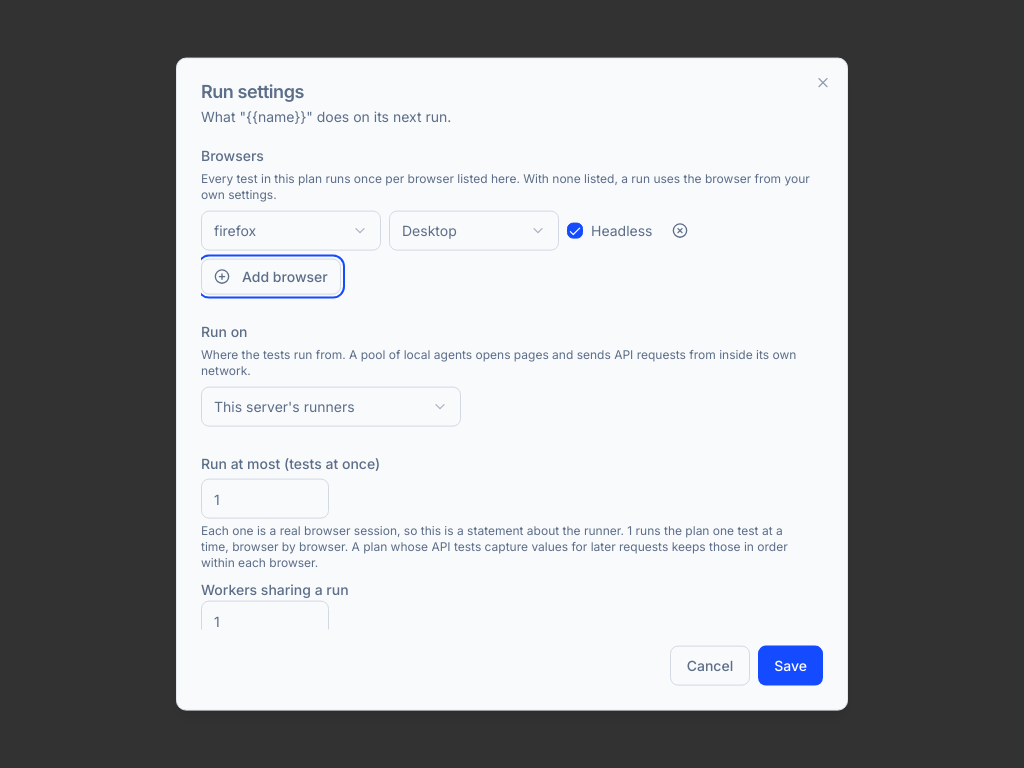
Test case: EditTestPlanSettingsModal › refuses a parallelism that is not a usable number of browser sessions
Replace the text in the field labelled "Run at most (tests at once)" with "40" at x=265, y=499, box [201,479,329,519]
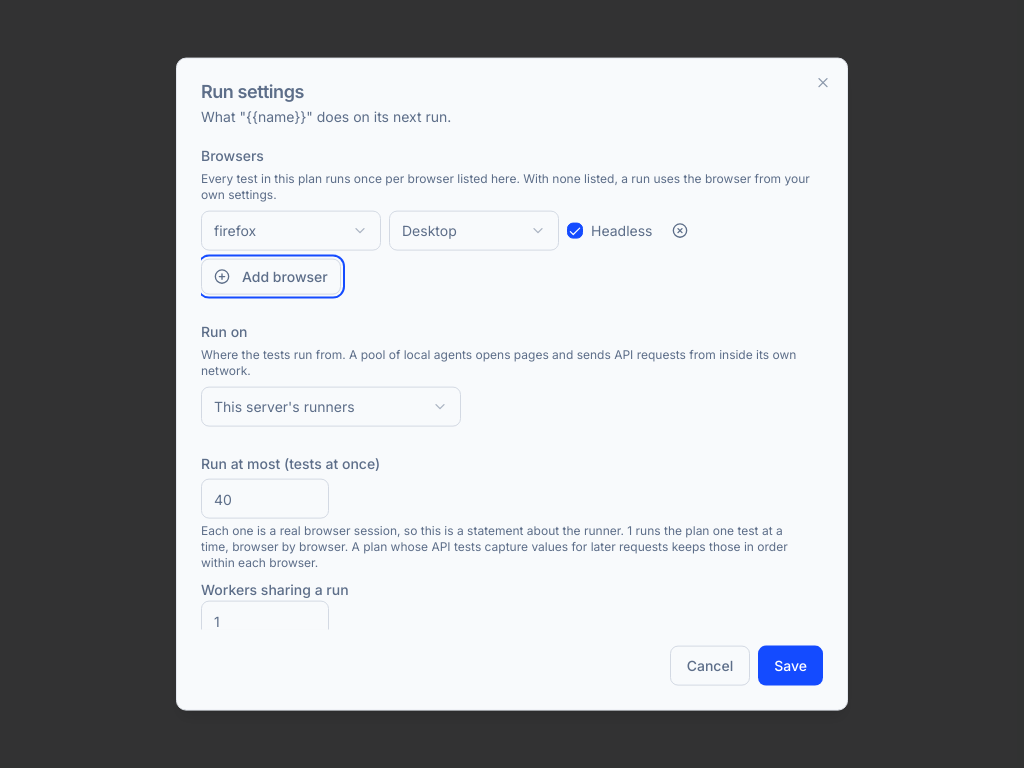
Click the button "Save" at x=791, y=665, box [758,645,823,685]
(page scrolled)
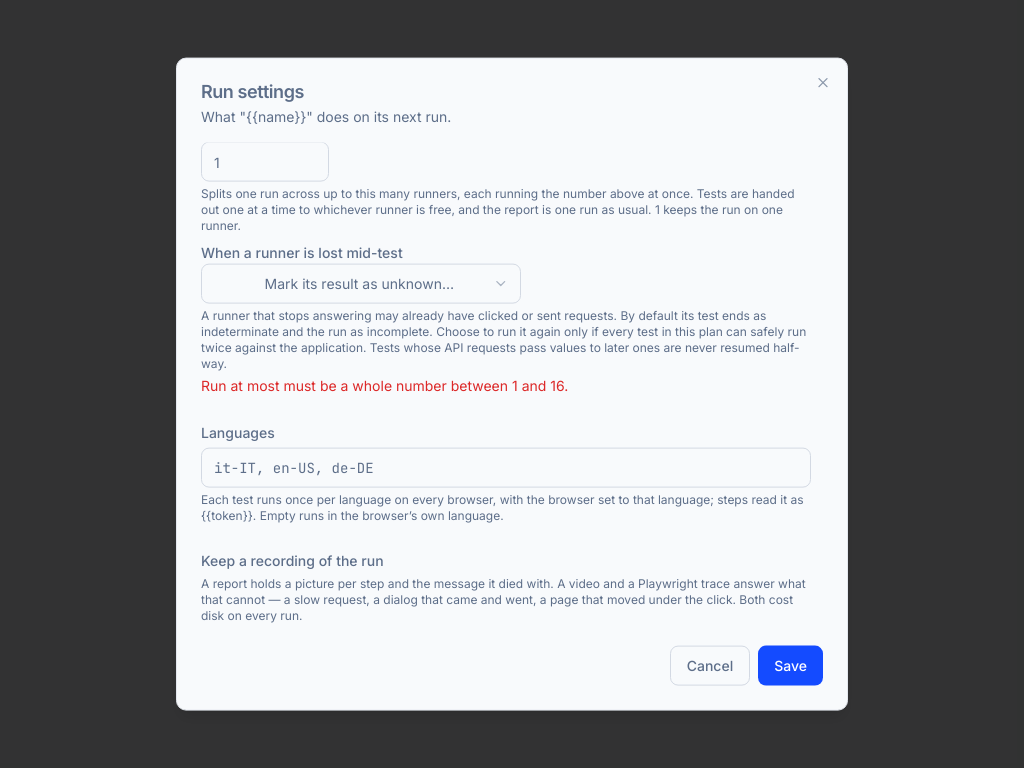
expect the text "Run at most must be a whole number between 1 and 16." is shown: met, box [201,377,568,394]
